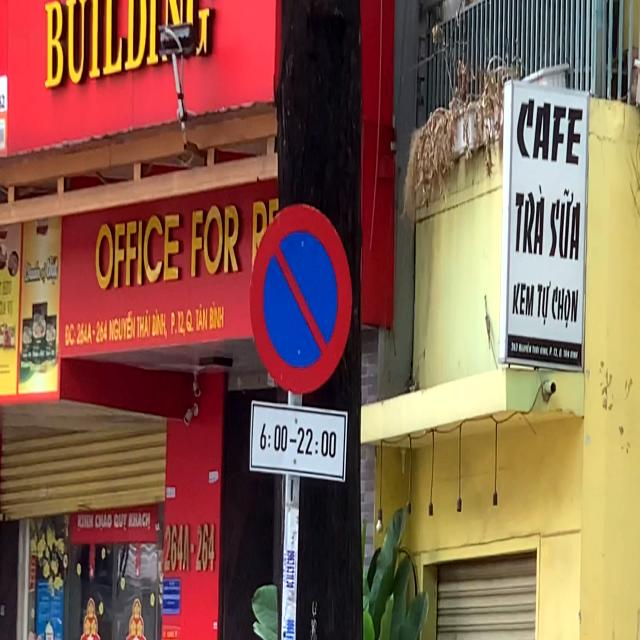P.131a: (248, 203, 352, 394)
